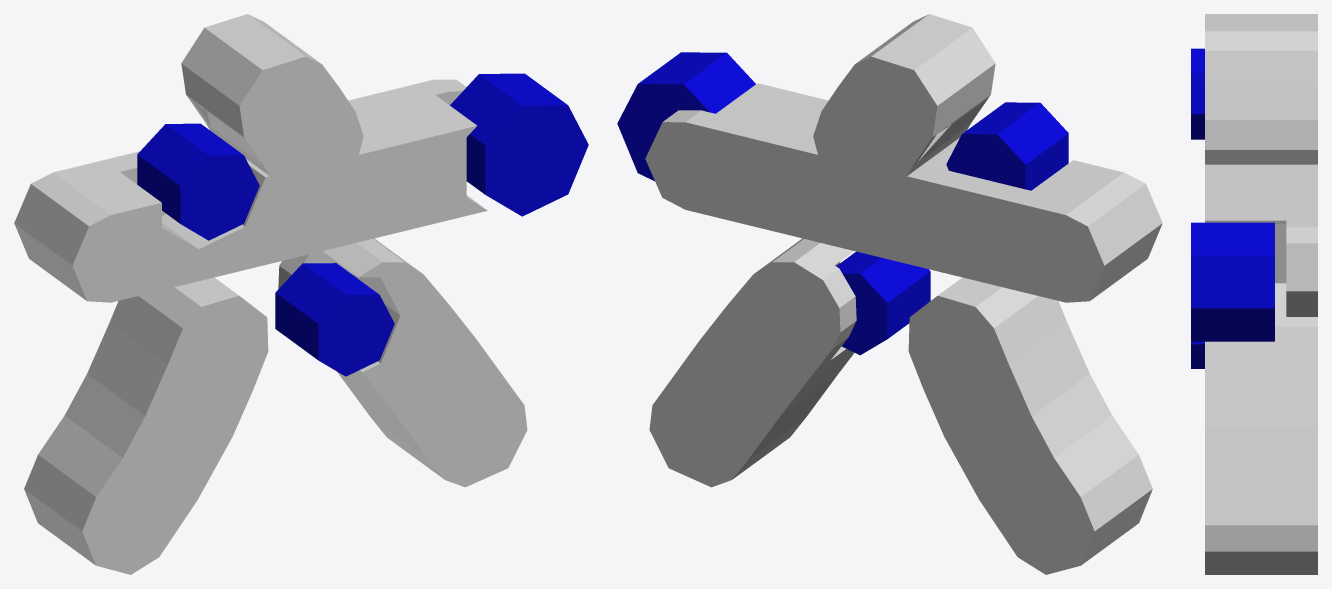
Rendered from Ch_Lite_China_六_01.fbx.
3 views of the same model, side by side, from view 1: azimuth 30°, elevation 25°; view 2: azimuth 150°, elevation 25°; view 3: azimuth 270°, elevation 25° (orthographic). The views are drawn at different scales.
Visible parts, largest first — view 1: sphere1; view 2: sphere1; view 3: sphere1.
Part boxes in pixels (<box>): sphere1: <box>14,14,588,574</box>; sphere1: <box>617,14,1162,574</box>; sphere1: <box>1191,14,1317,574</box>.
Bounding box in the file's own units: 1.01 × 0.9019 × 0.2242.
